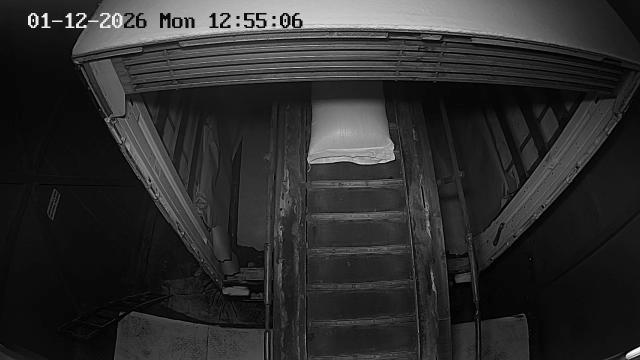bag: (308, 82, 395, 165)
